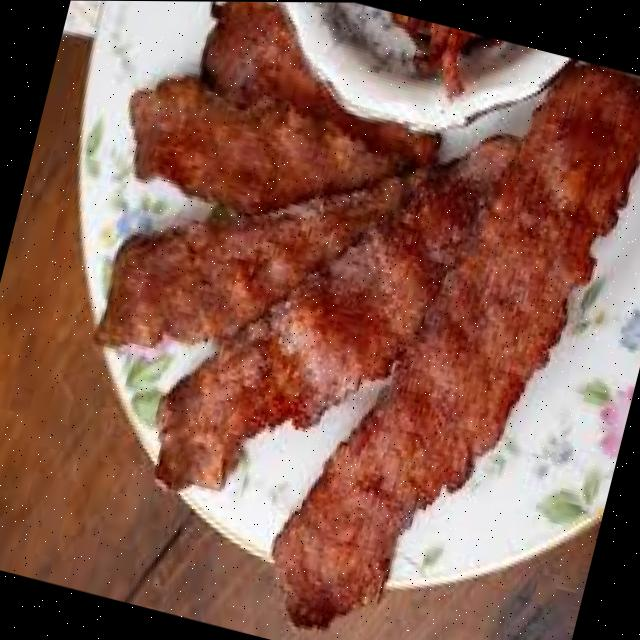Bacon: (275, 63, 640, 625), (129, 1, 437, 213), (97, 175, 404, 346), (156, 273, 398, 489)
